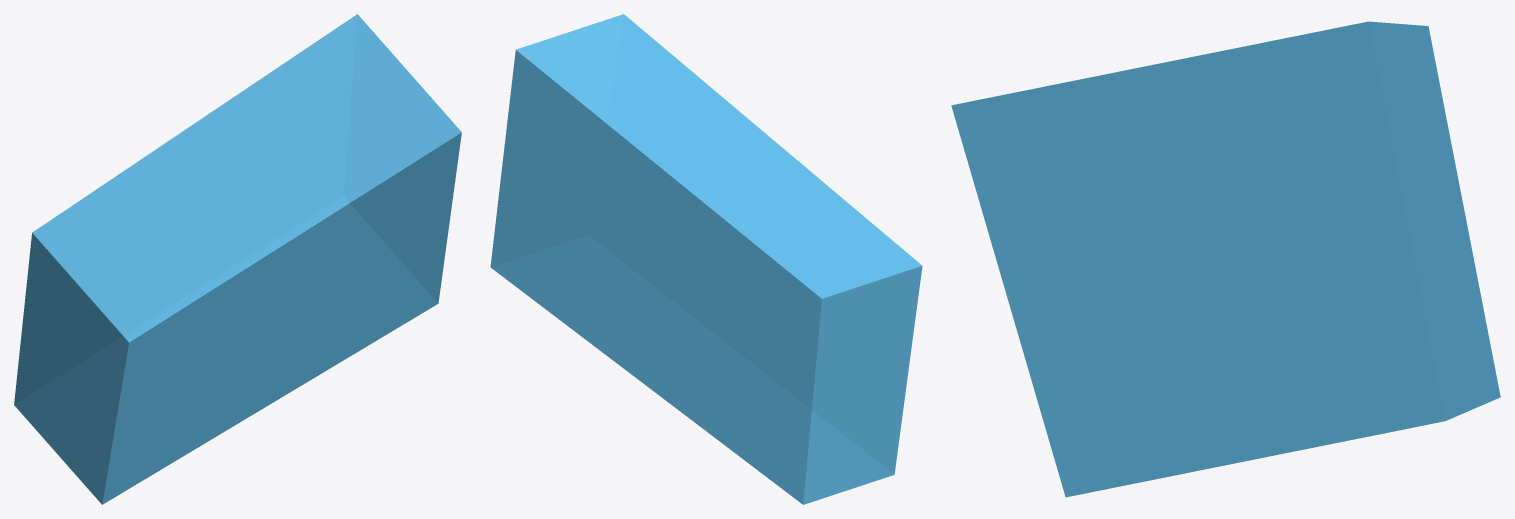
Rendered from Event_421364160_HErechit_18.fbx.
3 renders of one model, left to right at view 1: azimuth 30°, elevation 25°; view 2: azimuth 150°, elevation 25°; view 3: azimuth 270°, elevation 25°, orthographic. The views are drawn at different scales.
Visible parts, largest first — view 1: Model; view 2: Model; view 3: Model.
Boxes of the visible parts, <box> form: Model: <box>14,14,461,504</box>; Model: <box>490,14,922,504</box>; Model: <box>951,21,1500,497</box>.
Size of the model in its own units: 0.7655 by 0.8686 by 0.577.
